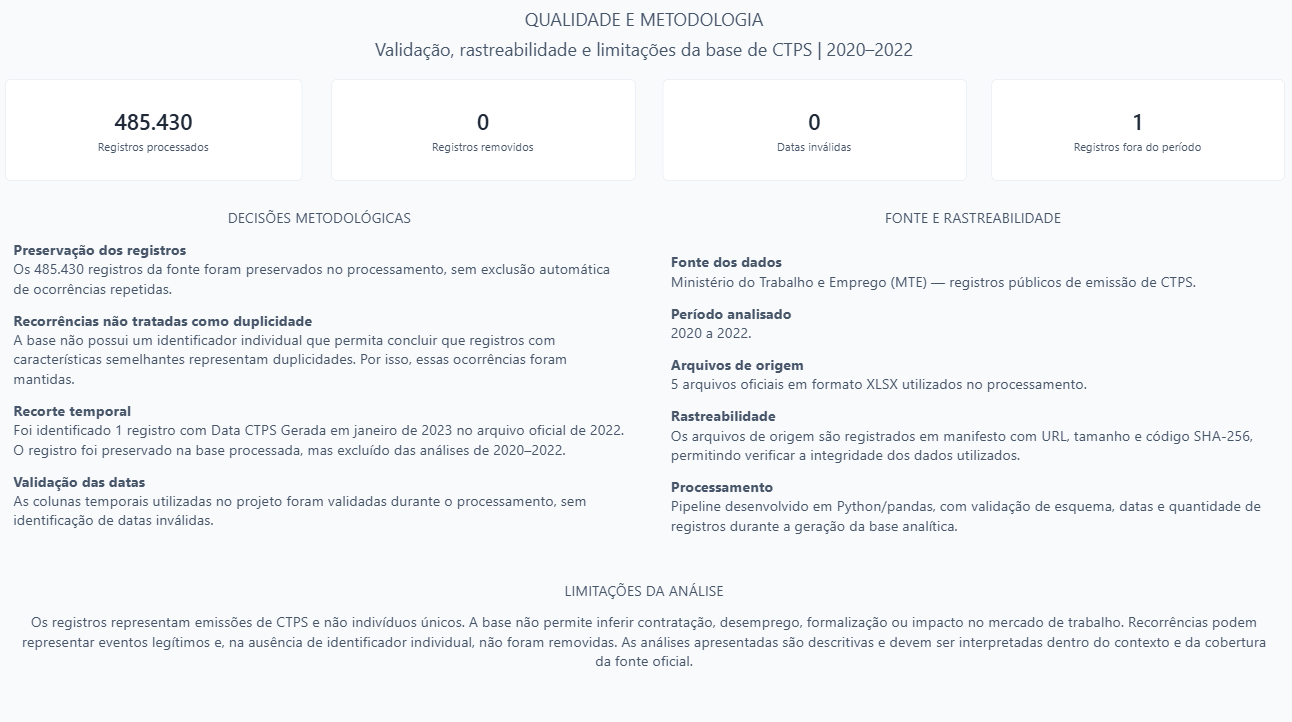

What the dashboard file says about the page in this screenshot:
{"tool":"powerbi","page":{"name":"Qualidade e Metodologia","canvas":[1920,1080],"ordinal":2},"visuals":[{"type":"textbox","box":[10,0,1894,66],"z":0},{"type":"textbox","box":[10,44,1894,62],"z":1},{"type":"card","fields":{"Values":["ctps_emissoes.Registros publicados"]},"box":[10,120,440,150],"z":2},{"type":"card","fields":{"Values":["Calendario.Registros removidos"]},"box":[492,120,450,150],"z":3},{"type":"card","fields":{"Values":["Calendario.Datas inválidas"]},"box":[984,120,450,150],"z":4},{"type":"card","fields":{"Values":["Calendario.Registros fora do período"]},"box":[1470,120,434,150],"z":5},{"type":"textbox","box":[10,298,932,552],"z":6},{"type":"textbox","box":[984,298,920,552],"z":7},{"type":"textbox","box":[10,850,1894,172],"z":8}]}

Visuals, with their boxes in screenshot pixels (x1, y1, x2, y2), scaled from the page's 1920x1080 canvas onto the 1292x722 screenshot:
textbox: select_region(7, 0, 1281, 44)
textbox: select_region(7, 29, 1281, 71)
card - ctps_emissoes.Registros publicados: select_region(7, 80, 303, 180)
card - Calendario.Registros removidos: select_region(331, 80, 634, 180)
card - Calendario.Datas inválidas: select_region(662, 80, 965, 180)
card - Calendario.Registros fora do período: select_region(989, 80, 1281, 180)
textbox: select_region(7, 199, 634, 568)
textbox: select_region(662, 199, 1281, 568)
textbox: select_region(7, 568, 1281, 683)
